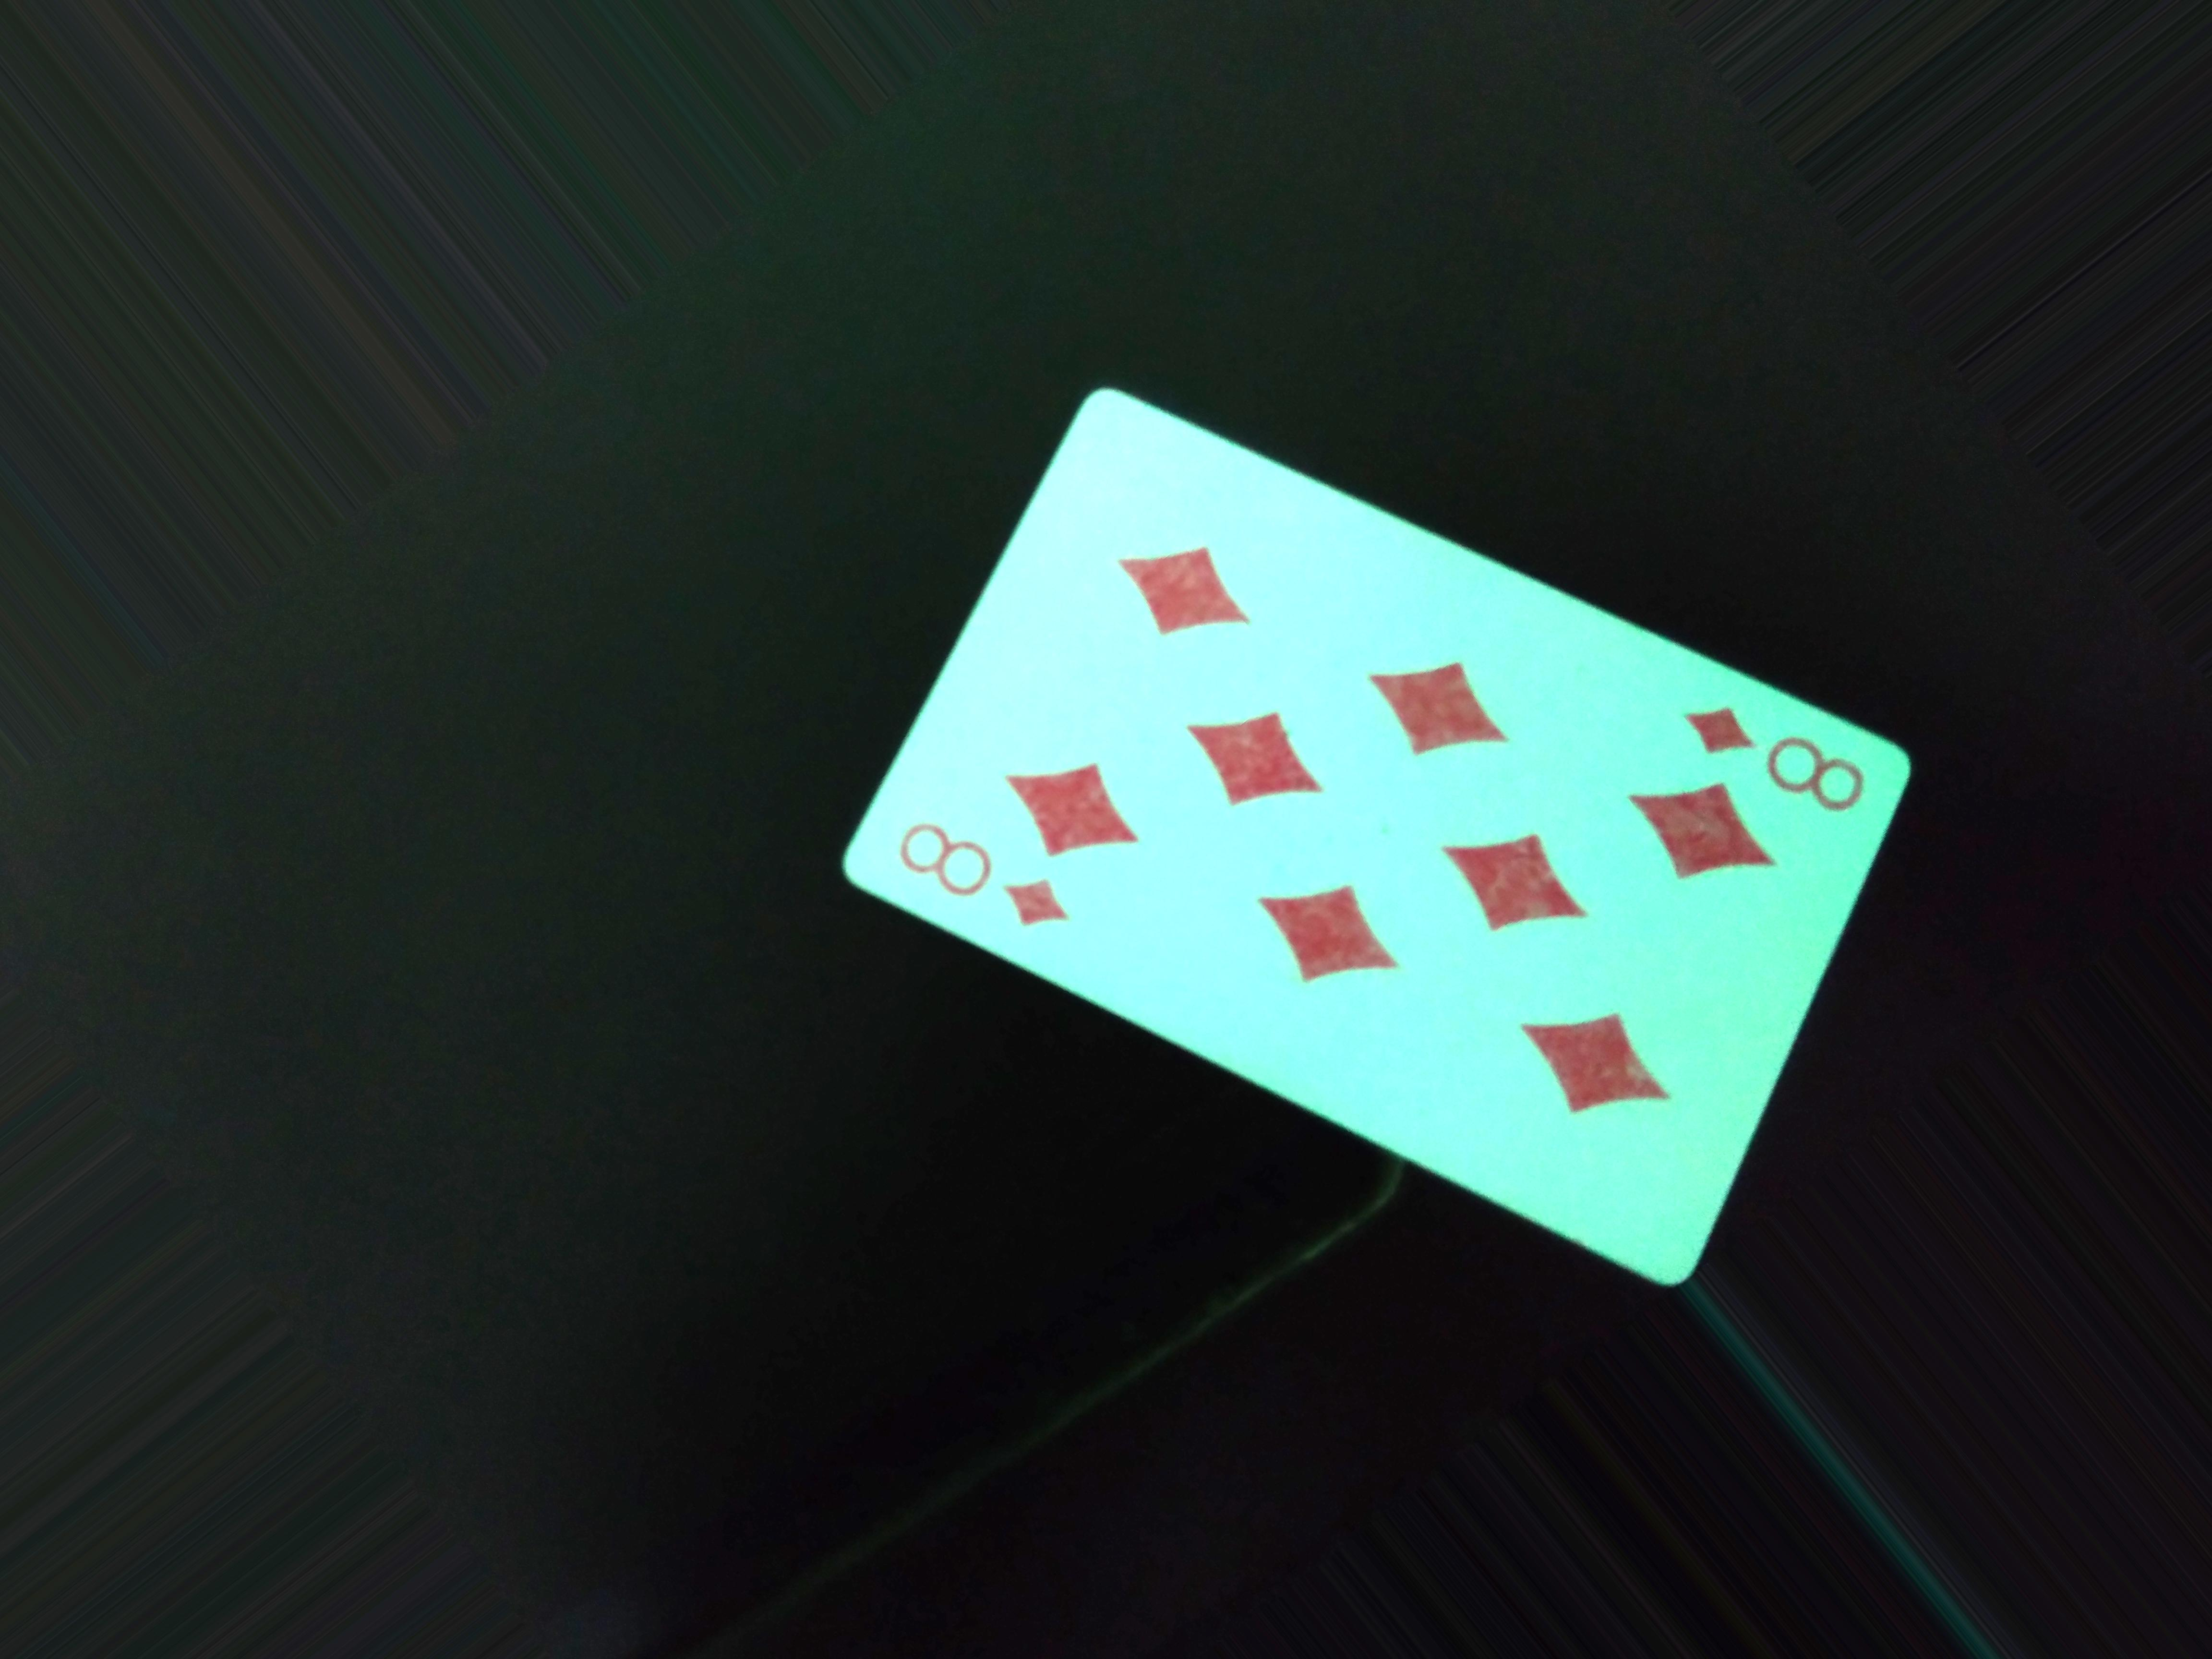8D: (885, 807, 1157, 995)
